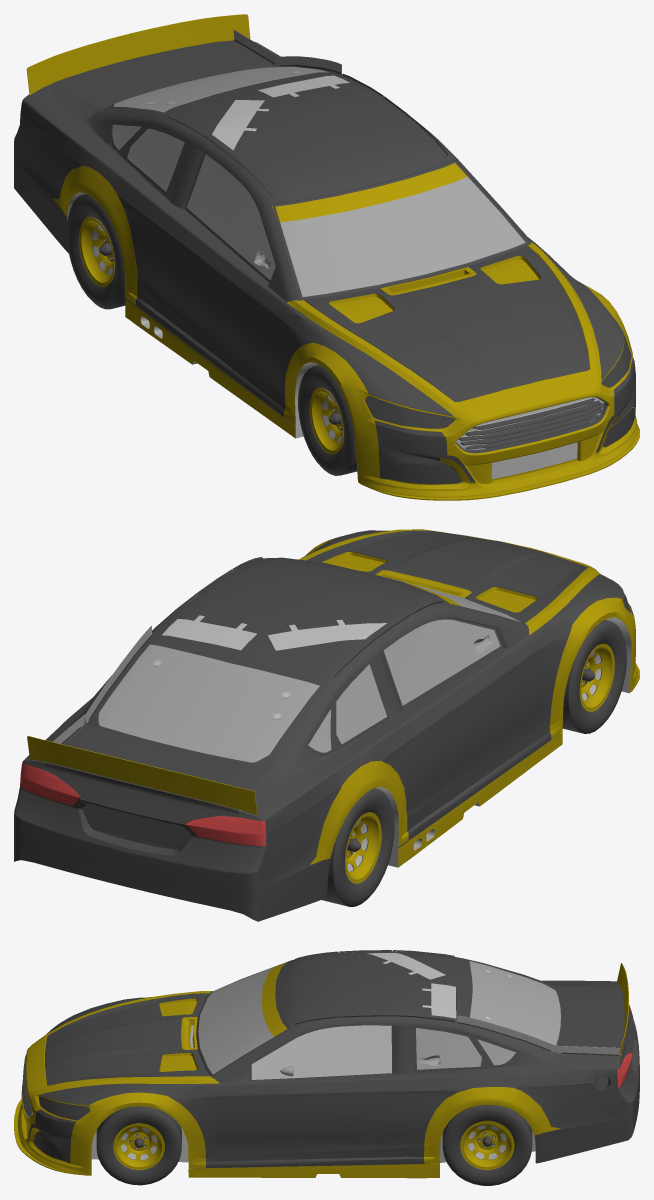
File: ford-fusion-nascar_for_3d-printing.glb
The picture shows the model from 3 angles, top to bottom: view 1: azimuth 30°, elevation 25°; view 2: azimuth 150°, elevation 25°; view 3: azimuth 270°, elevation 25°; orthographic projection. The views are drawn at different scales.
Visible parts, largest first — view 1: Object_2; view 2: Object_2; view 3: Object_2.
Part boxes in pixels (x1=…): Object_2: x1=14, y1=14, x2=639, y2=500; Object_2: x1=14, y1=529, x2=639, y2=921; Object_2: x1=14, y1=950, x2=639, y2=1185.
Bounding box in the file's own units: 2103 × 1457 × 5305.
